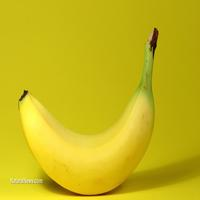banane: (12, 40, 179, 197)
